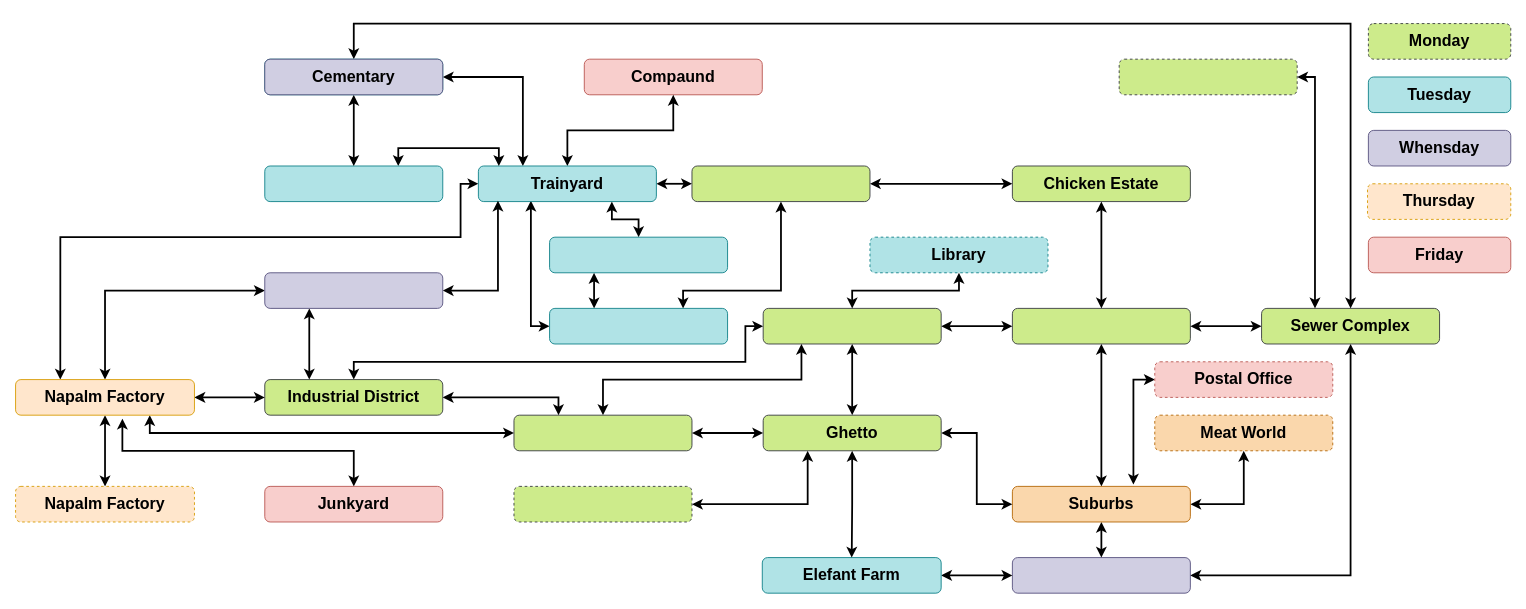
The diagram is 1526 pixels wide and 609 high, and some of its shapes have lost their labels. Here are the shapes that lost their labels. From the top down, the centre of each, then its label:
At (1207,76): "Tora Bora".
At (353,183): "Church".
At (780,183): "Office Complex".
At (638,254): "East Mall".
At (353,290): "Clinik".
At (638,325): "West Mall".
At (851,325): "Main Street".
At (1100,325): "Home".
At (602,432): "Greenbelt".
At (602,503): "Police".
At (1100,575): "Forest".
